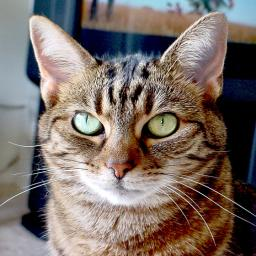catnose: (105, 158, 138, 180)
